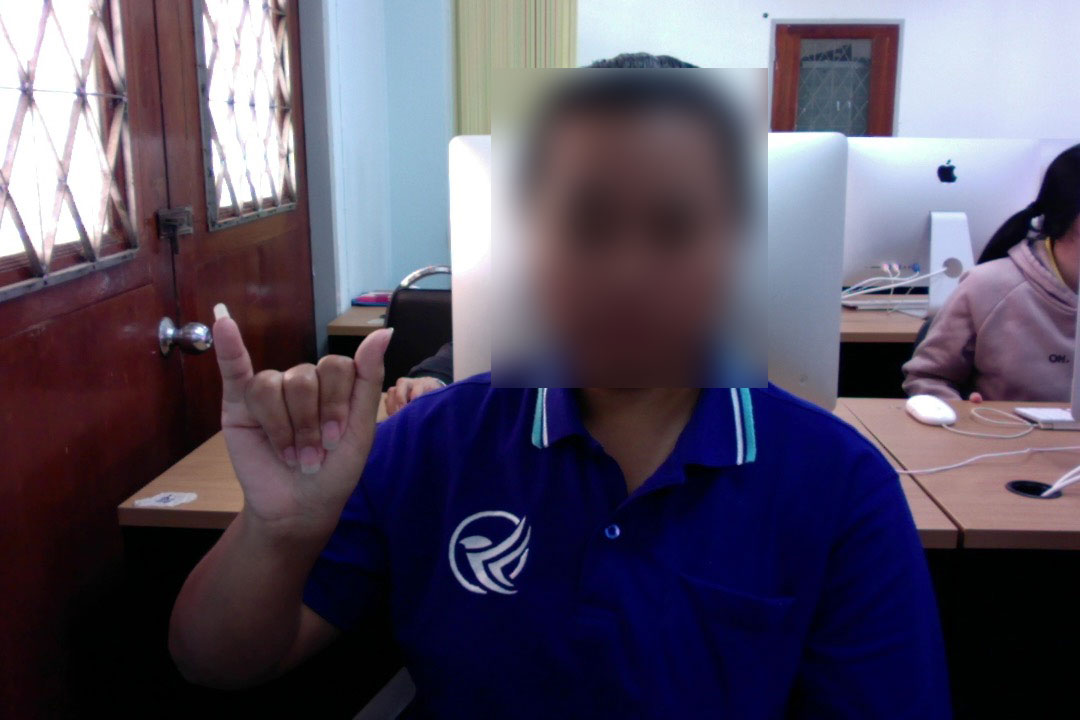yor: (200, 294, 401, 543)
